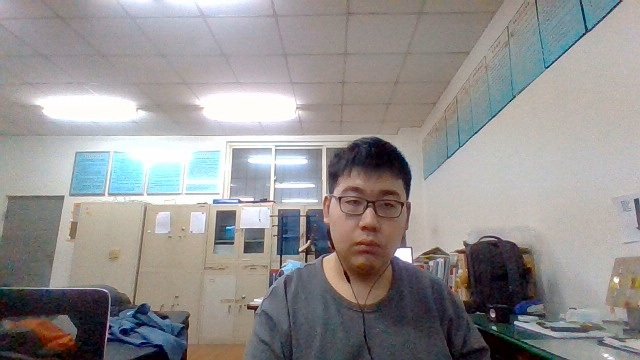listening: (244, 144, 467, 357)
